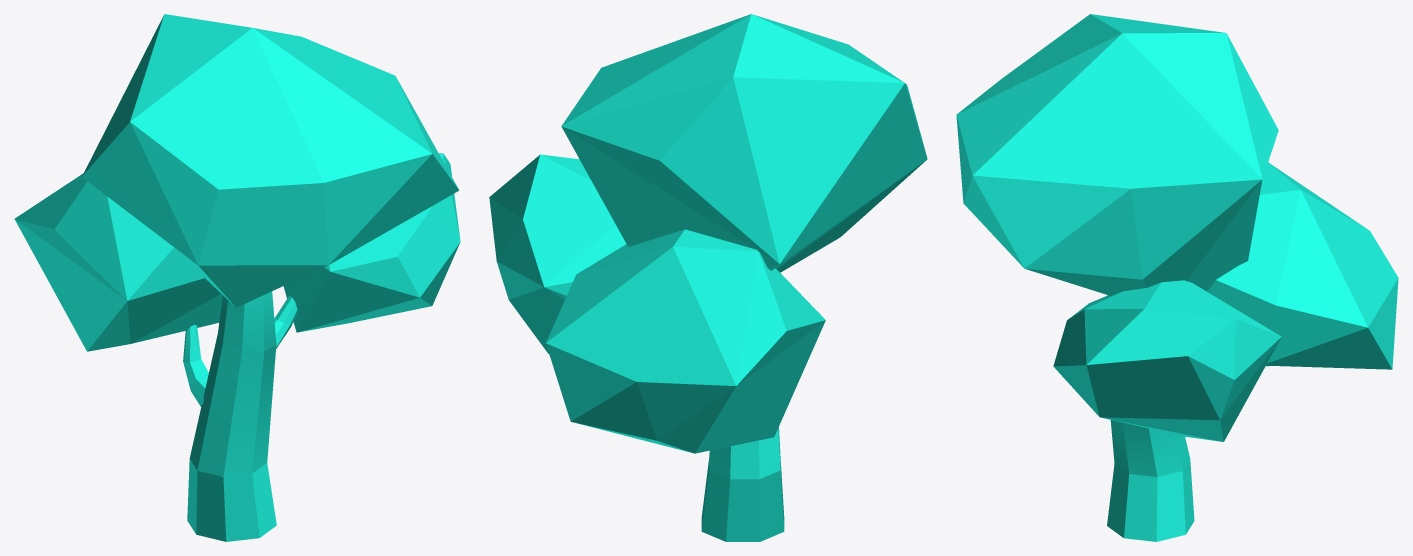
File: Tree01.fbx
3 renders of one model, left to right at view 1: azimuth 30°, elevation 25°; view 2: azimuth 150°, elevation 25°; view 3: azimuth 270°, elevation 25°, orthographic. The views are drawn at different scales.
Parts seen in each view (by area): view 1: Tree01; view 2: Tree01; view 3: Tree01.
Boxes of the visible parts, x1=… form: Tree01: x1=14, y1=14, x2=460, y2=541; Tree01: x1=489, y1=14, x2=927, y2=541; Tree01: x1=956, y1=14, x2=1398, y2=541.
Size of the model in its own units: 752 by 978 by 795.
